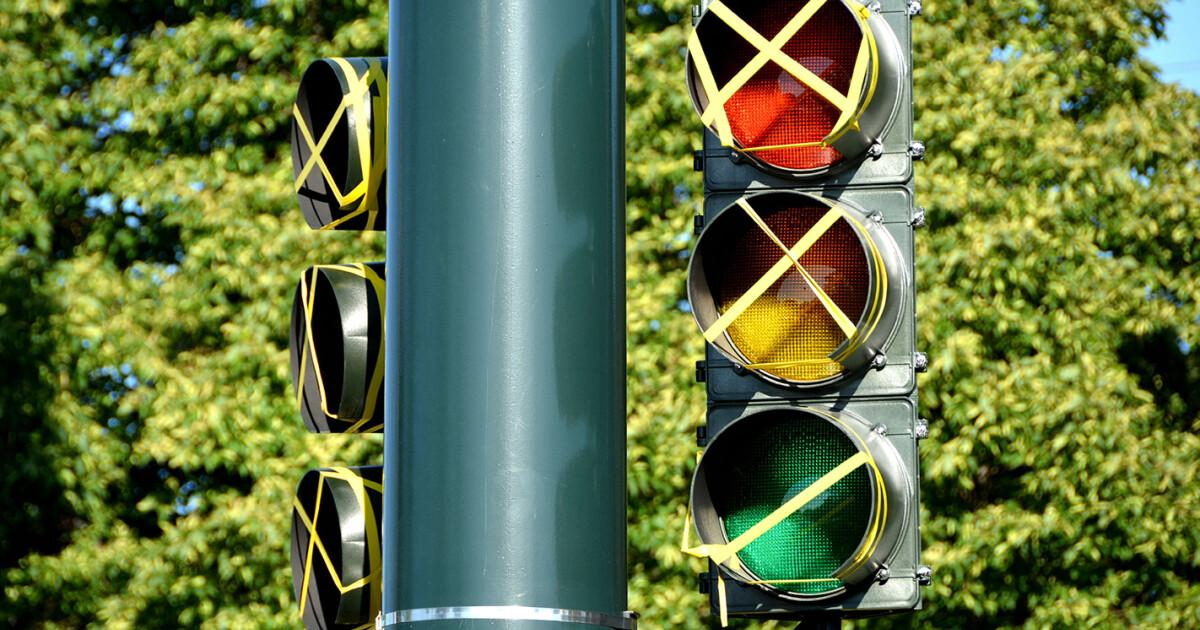off traffic light: (683, 0, 929, 617), (284, 48, 410, 630)
